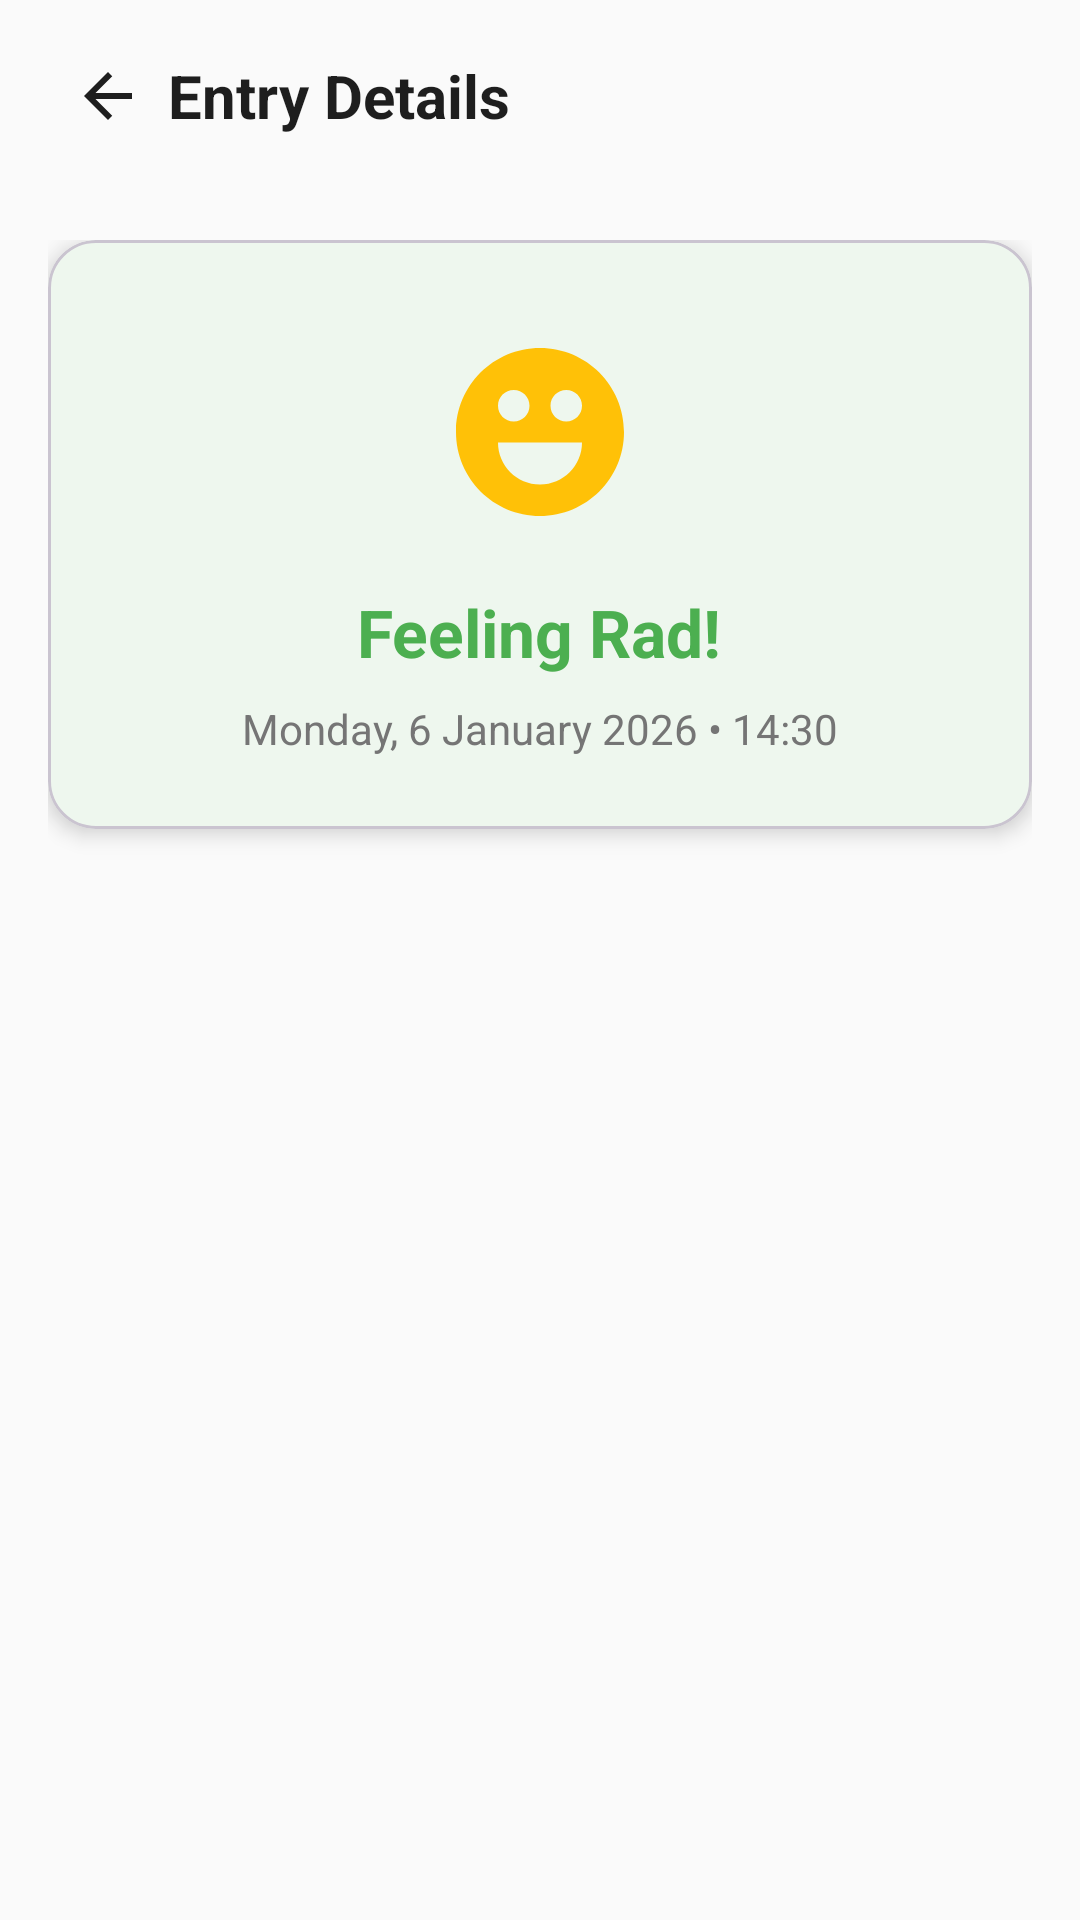

Screen size 1080×1920. Icon name, then its box in pixels as (x1, y1, x2, y2):
back: (84, 72, 132, 120)
face: (456, 348, 624, 516)
